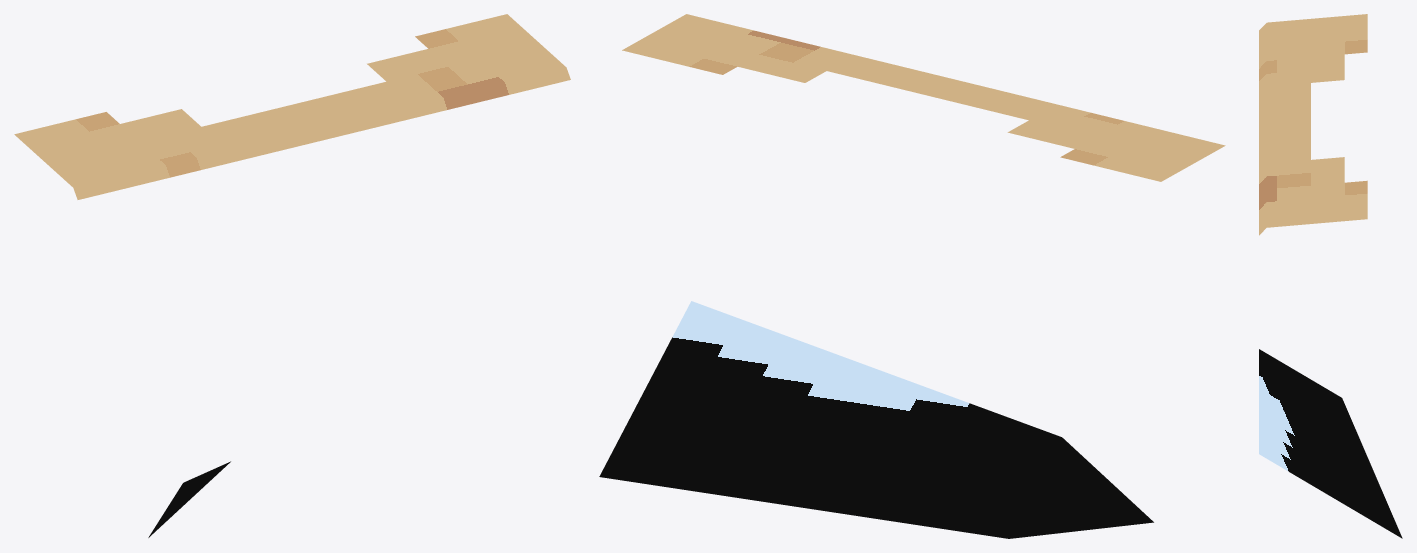
The picture shows the model from 3 angles, left to right: view 1: azimuth 30°, elevation 25°; view 2: azimuth 150°, elevation 25°; view 3: azimuth 270°, elevation 25°; orthographic projection. The views are drawn at different scales.
Size of the model in its own units: 1 by 0.7266 by 0.2959.
2 materials, 2 textured.
